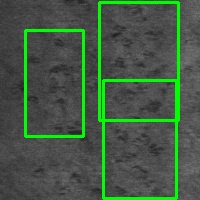rolled-in_scale: (99, 2, 178, 120), (103, 80, 176, 198), (25, 30, 83, 136)
